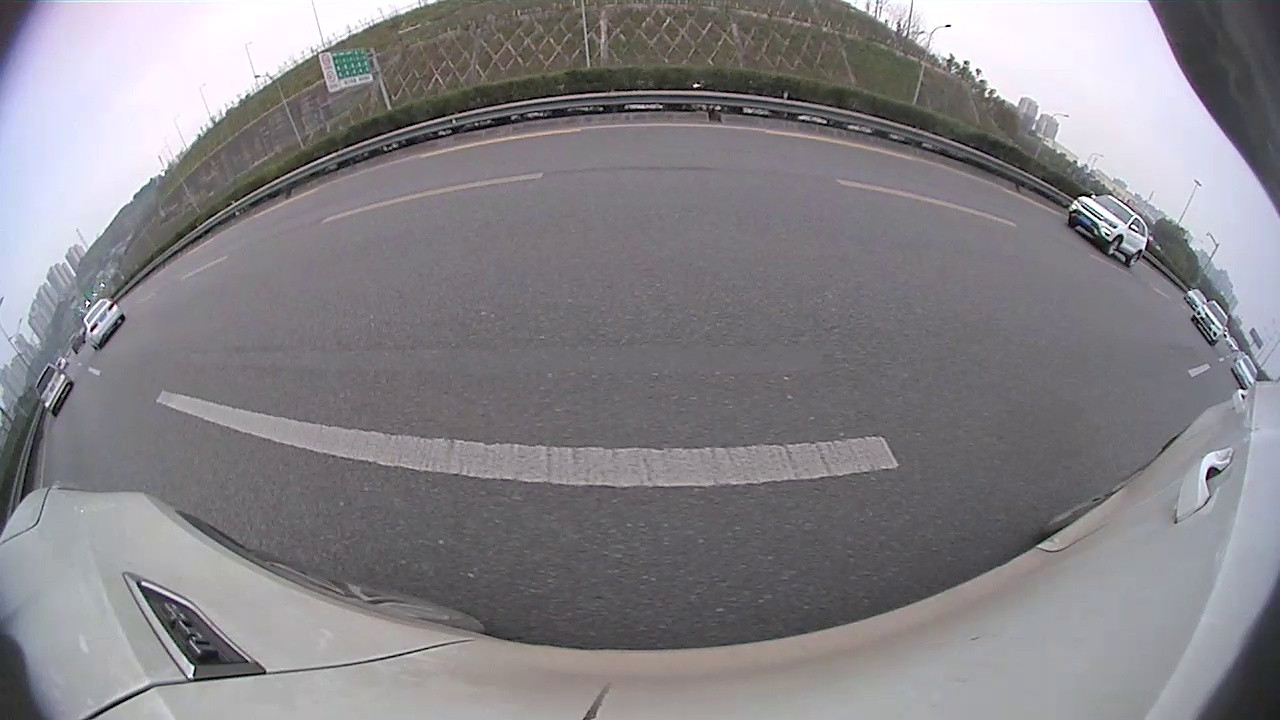car: (1, 179, 387, 518), (575, 108, 794, 258), (997, 223, 1234, 360), (791, 147, 978, 250), (1185, 346, 1279, 456), (457, 155, 560, 217), (560, 157, 582, 189)
front: (322, 227, 380, 301), (1008, 235, 1042, 274)
rear: (27, 416, 122, 516), (1148, 306, 1191, 355), (844, 195, 878, 240), (528, 183, 543, 217)
